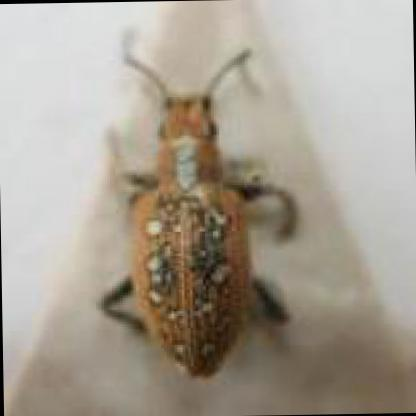ash weevil: (124, 83, 285, 376)
